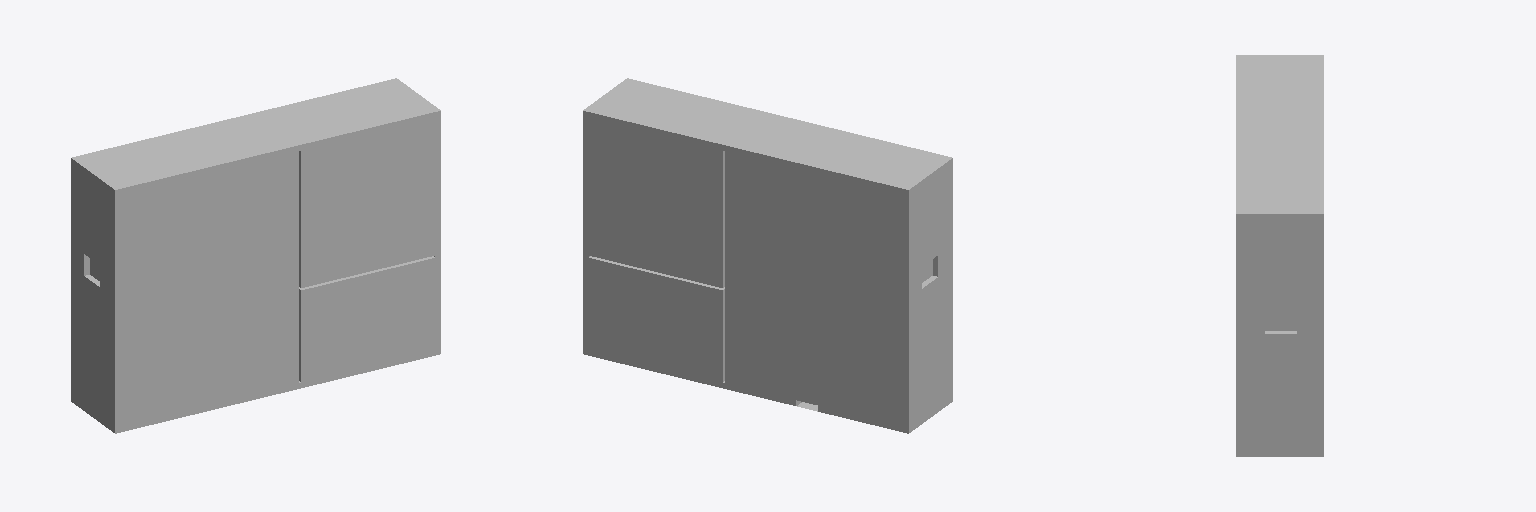
The model's file is maison.obj.
3 views of the same model, side by side, from view 1: azimuth 30°, elevation 25°; view 2: azimuth 150°, elevation 25°; view 3: azimuth 270°, elevation 25° (orthographic).
Bounding box in the file's own units: 14 × 10 × 3.3.